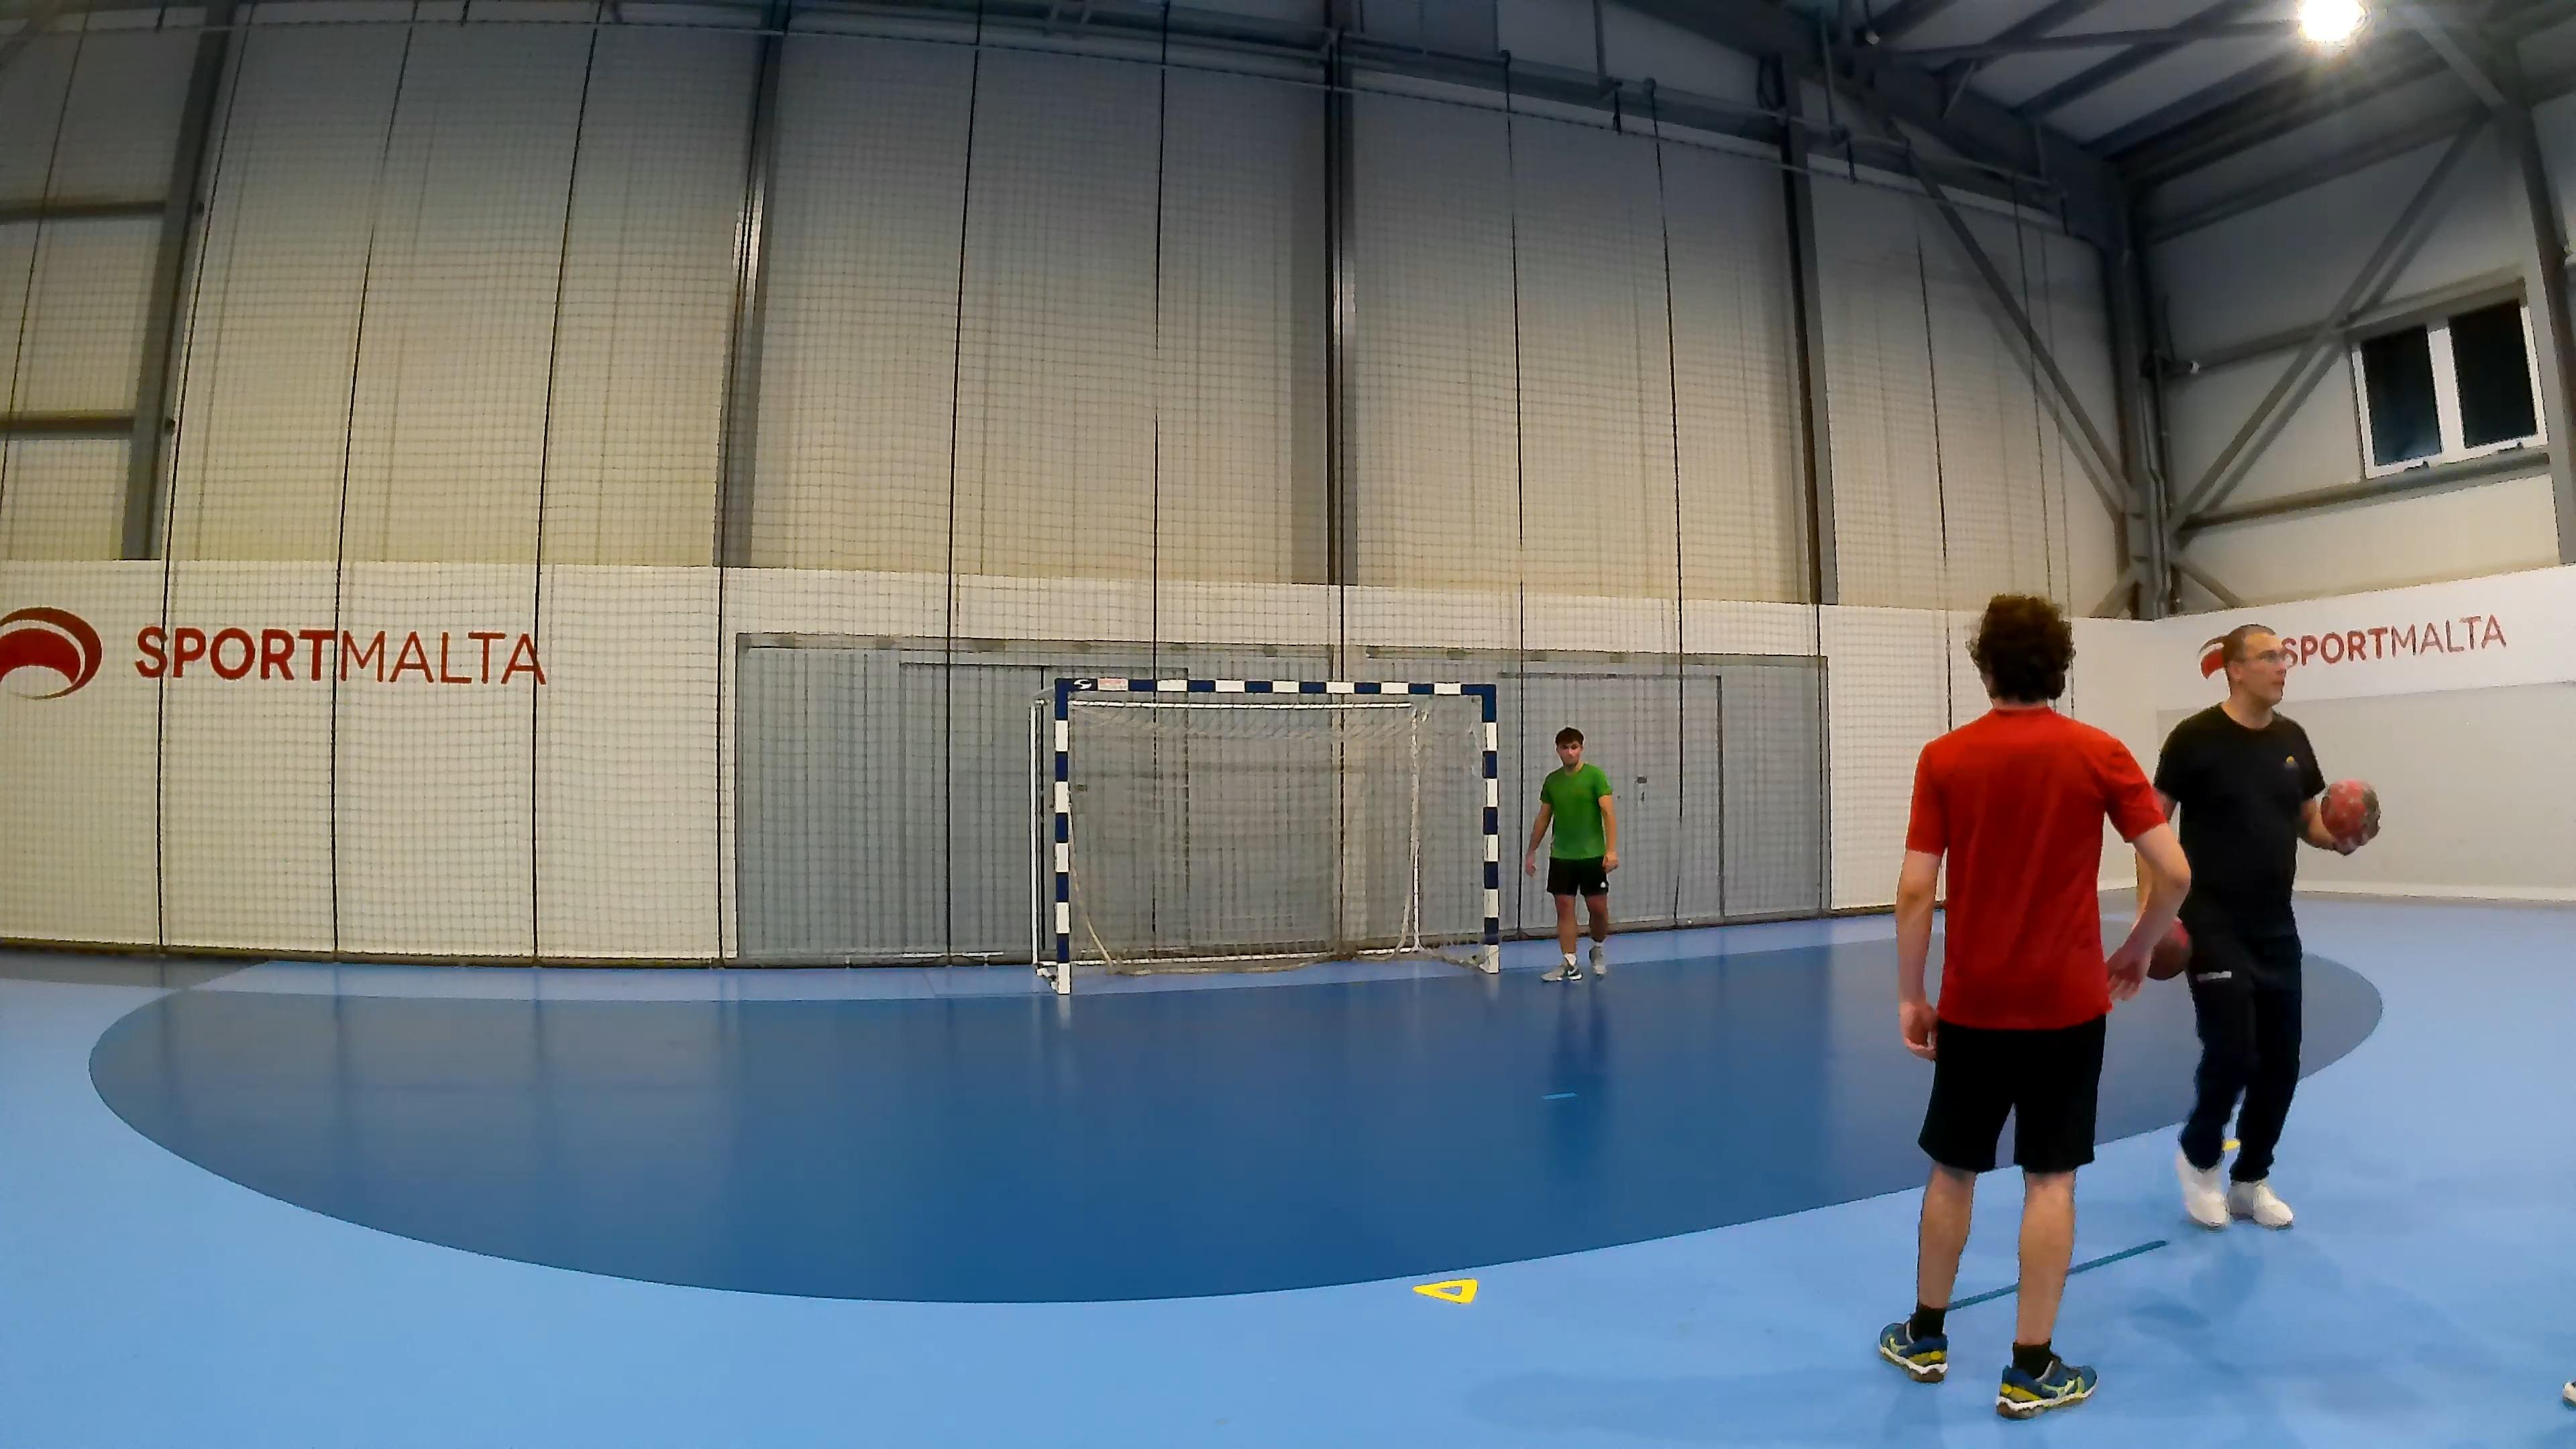handball: (2318, 777, 2380, 853), (2144, 916, 2192, 980)
